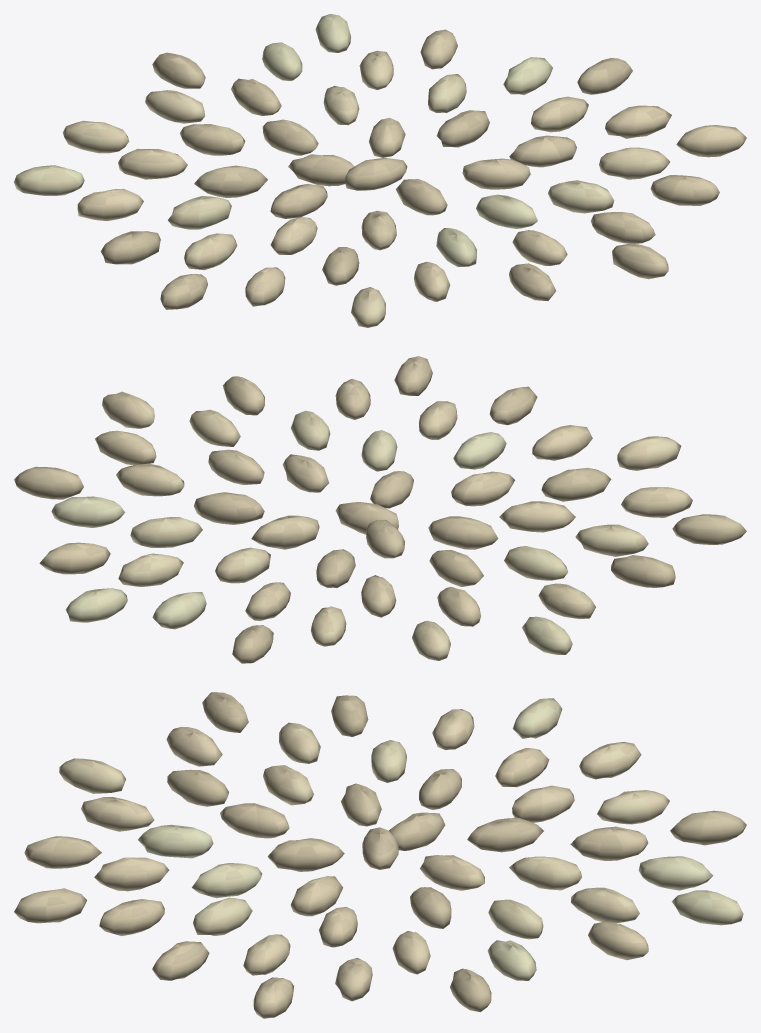
File: Rice.glb
3 renders of one model, top to bottom at view 1: azimuth 30°, elevation 25°; view 2: azimuth 150°, elevation 25°; view 3: azimuth 270°, elevation 25°, orthographic. The views are drawn at different scales.
Parts seen in each view (by area): view 1: Rice; view 2: Rice; view 3: Rice.
Boxes of the visible parts, bbox=[...] form: Rice: bbox=[14, 14, 746, 327]; Rice: bbox=[14, 356, 746, 663]; Rice: bbox=[14, 692, 746, 1018].
Size of what is drawn, in the model's own units: 0.0682 by 0.00309 by 0.0669.
